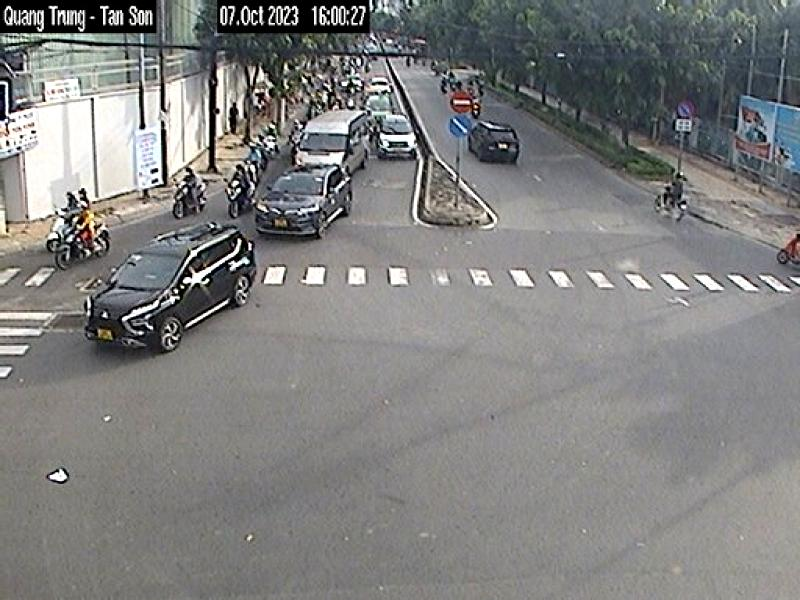car: (88, 218, 253, 356), (256, 162, 351, 240), (301, 105, 371, 170)
